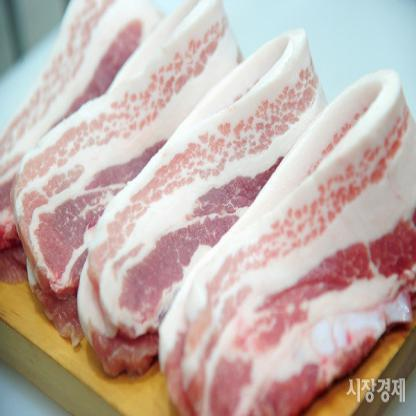pork: (0, 4, 414, 370)
